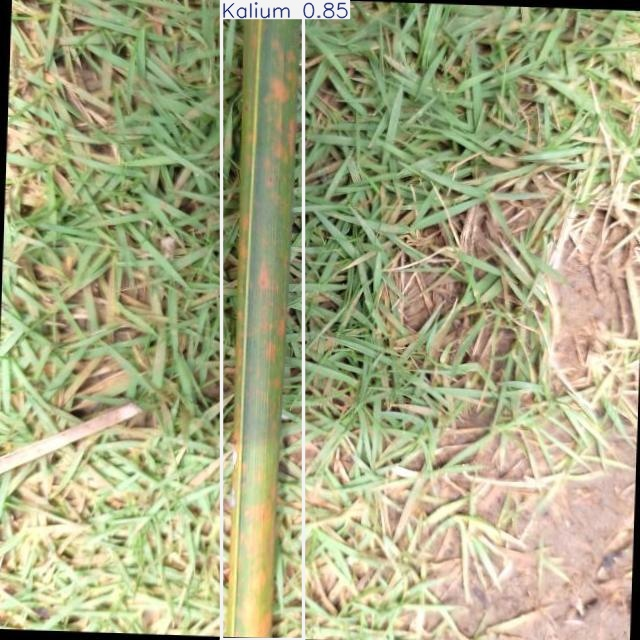Kalium: (221, 0, 304, 639)
